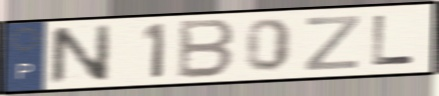0: (243, 16, 294, 76)
1: (140, 21, 167, 80)
B: (174, 17, 237, 81)
L: (370, 14, 417, 68)
N: (47, 22, 115, 87)
Z: (301, 13, 362, 73)
